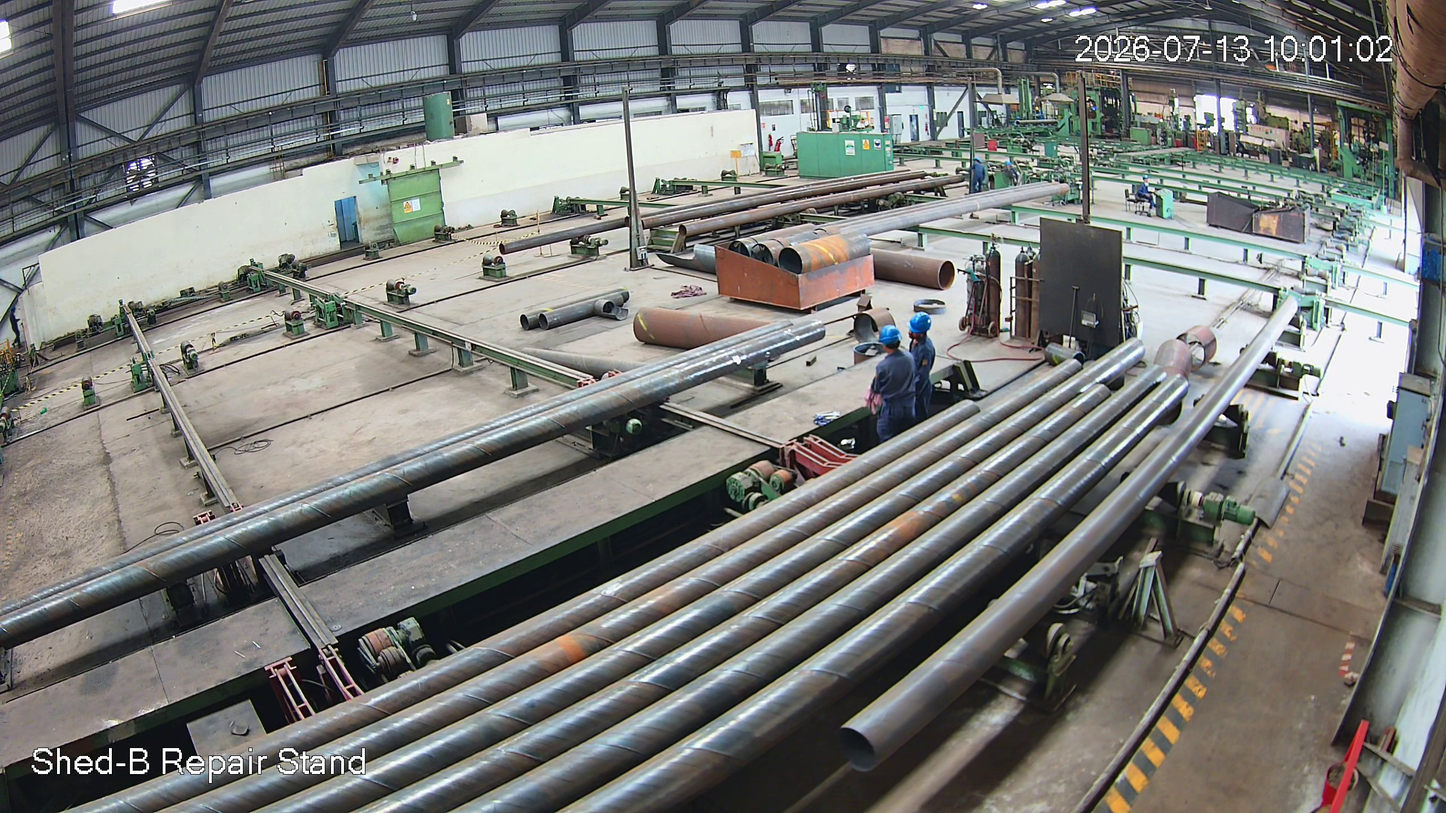Helmet: (877, 324, 908, 360), (904, 311, 936, 342)
Person: (870, 326, 919, 436), (904, 313, 938, 425)
